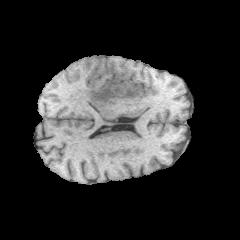glioma: (82, 81, 146, 107)
